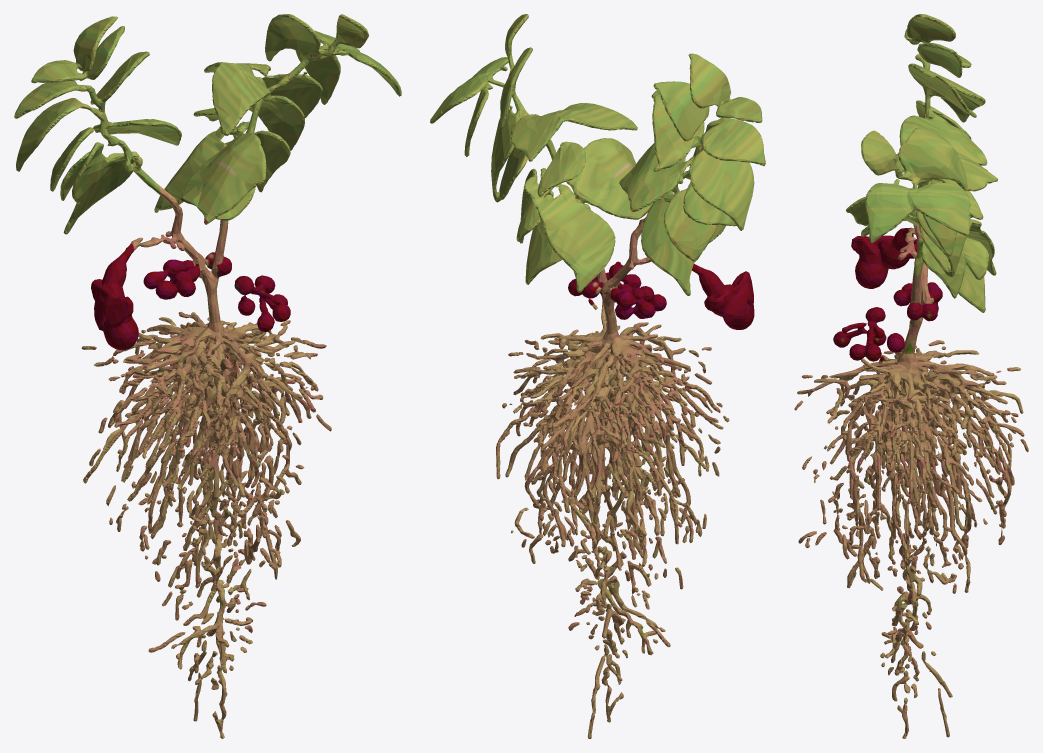
The model's file is Snakeroot.glb.
3 views of the same model, side by side, from view 1: azimuth 30°, elevation 25°; view 2: azimuth 150°, elevation 25°; view 3: azimuth 270°, elevation 25° (orthographic). The views are drawn at different scales.
Visible parts, largest first — view 1: world; view 2: world; view 3: world.
Part boxes in pixels (x1=…): world: x1=14, y1=14, x2=401, y2=738; world: x1=430, y1=14, x2=765, y2=738; world: x1=794, y1=14, x2=1028, y2=738.
Bounding box in the file's own units: 0.9812 × 1.99 × 0.622.
Materials: 1 (1 with a texture image).
